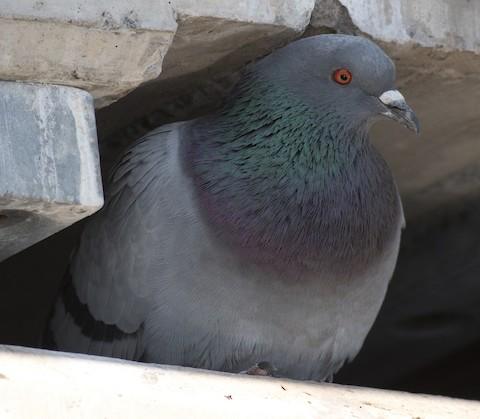pigeon: (37, 30, 438, 387)
